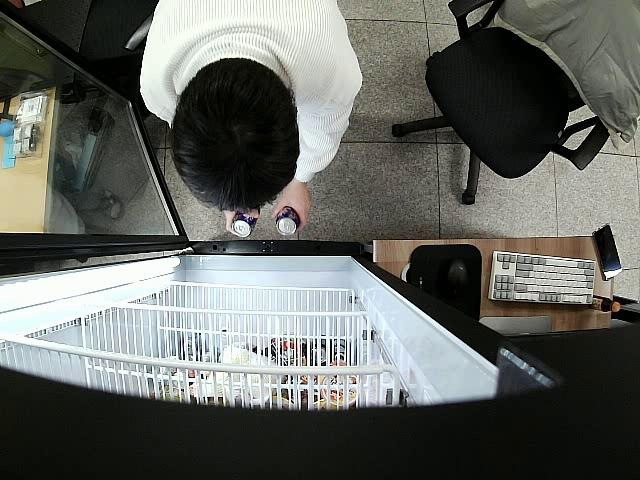00_hand: (272, 181, 312, 232)
14_welchsGrape: (231, 205, 260, 238), (276, 206, 302, 237)
